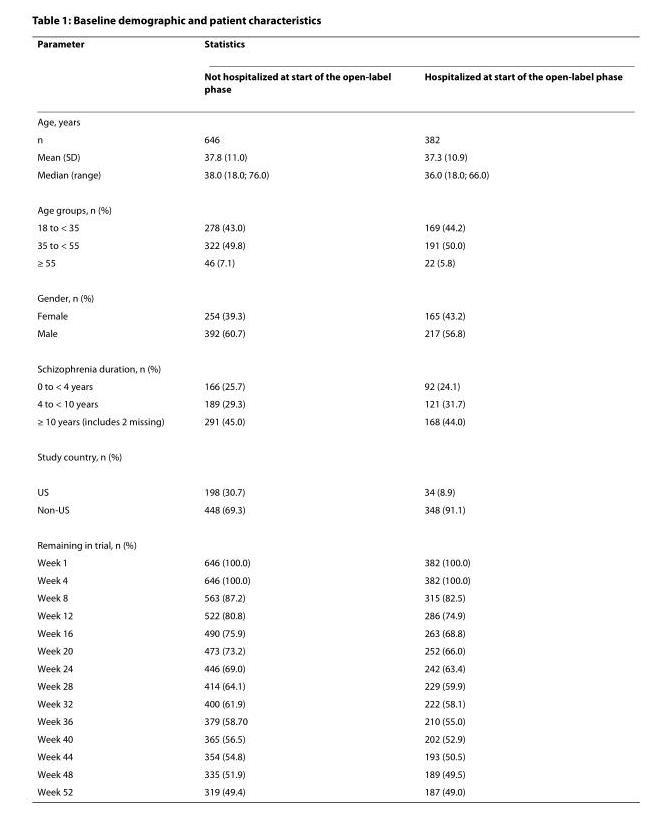table: (36, 36, 621, 797)
table column: (183, 36, 406, 797), (406, 36, 621, 797), (36, 36, 183, 797)
table column header: (36, 36, 621, 104)
table projected row header: (36, 438, 621, 473), (36, 279, 621, 306), (36, 191, 621, 217), (36, 350, 621, 376), (36, 526, 621, 552), (36, 104, 621, 129)
table row: (36, 59, 621, 104), (36, 438, 621, 473), (36, 279, 621, 306), (36, 323, 621, 350), (36, 411, 621, 438), (36, 473, 621, 500), (36, 165, 621, 191), (36, 191, 621, 217), (36, 253, 621, 279), (36, 350, 621, 376), (36, 500, 621, 526), (36, 526, 621, 552), (36, 104, 621, 129), (36, 36, 621, 59), (36, 129, 621, 147), (36, 147, 621, 165), (36, 217, 621, 235), (36, 235, 621, 253), (36, 376, 621, 394), (36, 552, 621, 570), (36, 570, 621, 588), (36, 605, 621, 623), (36, 623, 621, 641), (36, 658, 621, 676), (36, 676, 621, 694), (36, 711, 621, 729), (36, 746, 621, 764), (36, 764, 621, 782), (36, 306, 621, 323), (36, 394, 621, 411), (36, 588, 621, 605), (36, 641, 621, 658), (36, 694, 621, 711), (36, 729, 621, 746), (36, 782, 621, 797)
table spanning cell: (183, 36, 621, 59), (36, 36, 183, 104)
